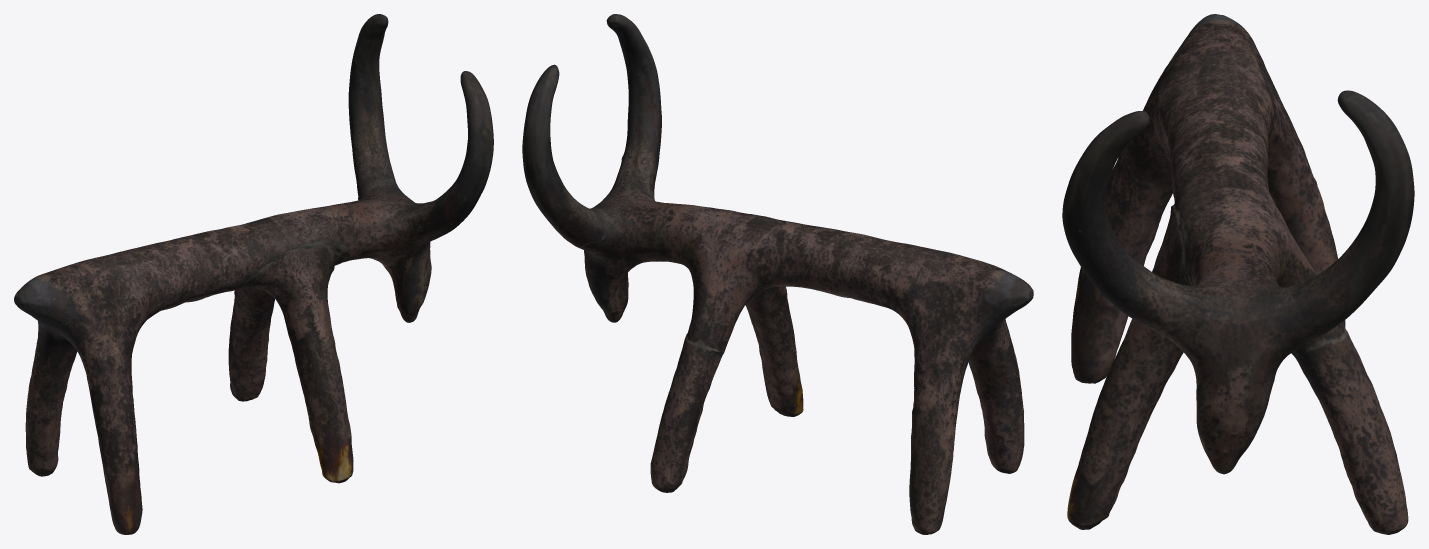
3 views of the same model, side by side, from view 1: azimuth 30°, elevation 25°; view 2: azimuth 150°, elevation 25°; view 3: azimuth 270°, elevation 25° (orthographic). The views are drawn at different scales.
Parts seen in each view (by area): view 1: Object_5, Object_4, Object_6, Object_7, Object_9, Object_2, Object_10, Object_8, Object_3, Object_11; view 2: Object_3, Object_4, Object_10, Object_2, Object_7, Object_9, Object_6, Object_8, Object_5, Object_11; view 3: Object_5, Object_7, Object_3, Object_4, Object_2, Object_6, Object_11, Object_8, Object_10, Object_9.
Boxes of the visible parts, x1,y1,x2,y2 form: Object_5: (249,214,353,483); Object_4: (80,224,262,335); Object_6: (74,323,142,534); Object_7: (389,71,493,252); Object_9: (14,261,138,346); Object_2: (348,14,403,200); Object_10: (25,325,77,476); Object_8: (295,191,410,265); Object_3: (228,211,302,401); Object_11: (380,192,431,322); Object_3: (650,213,784,492); Object_4: (769,221,953,337); Object_10: (909,326,973,534); Object_2: (522,64,617,255); Object_7: (602,14,661,200); Object_9: (935,253,1033,349); Object_6: (968,319,1024,473); Object_8: (597,196,723,268); Object_5: (718,209,803,416); Object_11: (584,198,636,322); Object_5: (1067,168,1232,529); Object_7: (1062,111,1228,360); Object_3: (1220,168,1408,534); Object_4: (1148,47,1288,201); Object_2: (1262,90,1414,350); Object_6: (1071,104,1172,383); Object_11: (1189,301,1295,474); Object_8: (1184,212,1290,311); Object_10: (1267,109,1345,327); Object_9: (1144,14,1281,143).
Bounding box in the file's own units: 0.199 × 0.1623 × 0.0973.
Materials: 1 (1 with a texture image).
